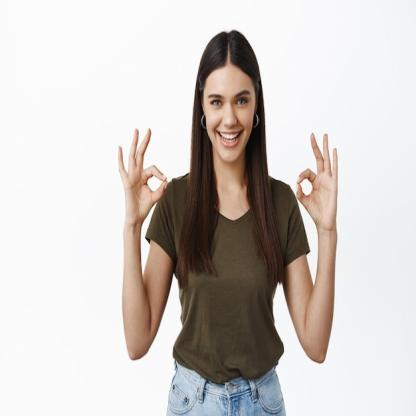ok: (115, 122, 172, 223), (294, 124, 342, 236)
